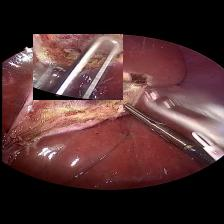Grasper: (32, 34, 122, 100), (117, 102, 164, 140)
